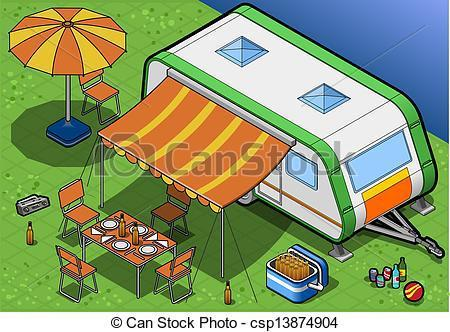bottle: (397, 256, 409, 281), (24, 220, 34, 246), (117, 212, 127, 236), (391, 264, 400, 288), (224, 280, 232, 306), (130, 221, 139, 244)
car: (137, 1, 439, 243)
chair: (55, 179, 103, 248), (147, 178, 191, 241), (152, 244, 197, 303), (78, 61, 120, 123), (54, 245, 98, 304)
diningtable: (80, 207, 179, 299)
